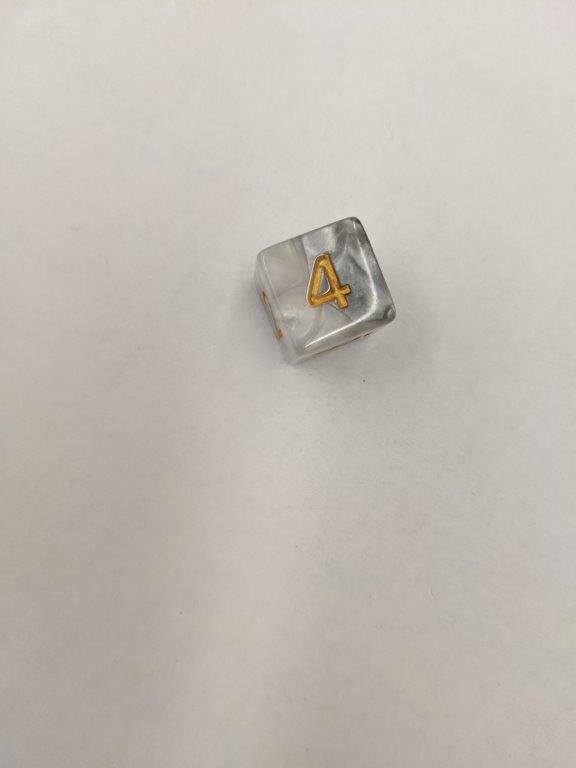d6-4: (256, 215, 396, 369)
